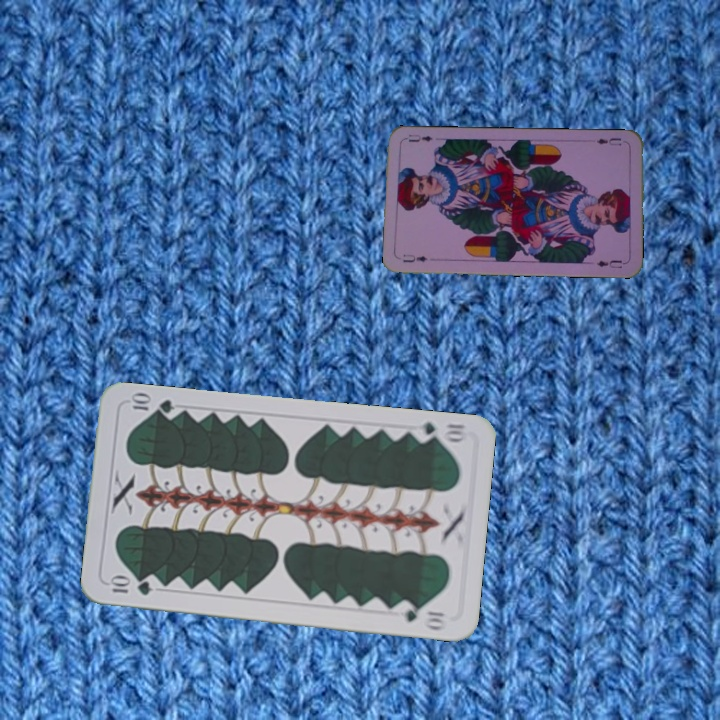EU: (399, 250, 430, 265), (593, 134, 624, 148)
G10: (410, 418, 470, 446), (105, 574, 155, 598)
